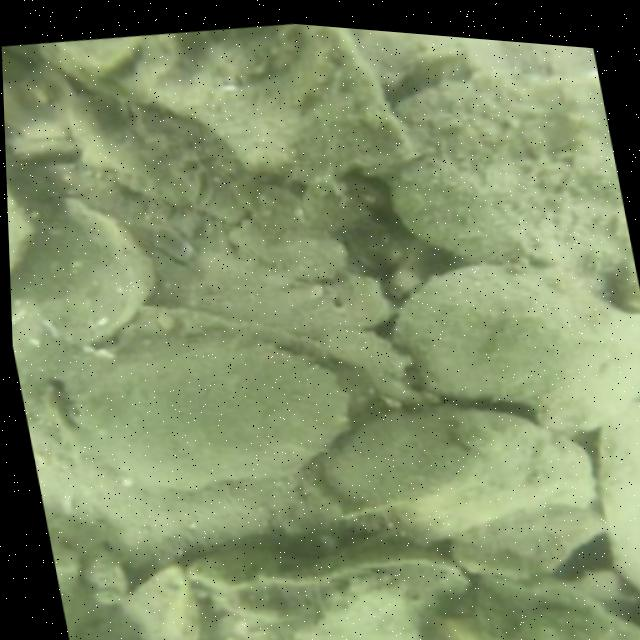Oyster-Indeterminate: (27, 24, 419, 185), (386, 64, 640, 302), (68, 340, 344, 498), (391, 260, 640, 433), (381, 409, 603, 544), (26, 195, 146, 350), (326, 404, 490, 515), (78, 557, 214, 640), (287, 577, 429, 640), (600, 400, 640, 595), (7, 182, 41, 277)
Oyster-Open: (175, 536, 464, 623)
